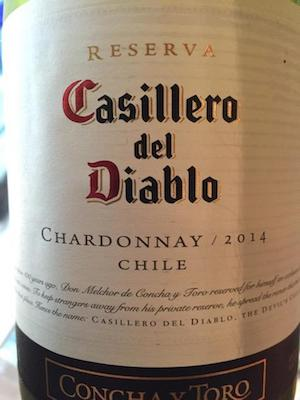casillero del diablo chardonnay: (2, 6, 299, 400)
